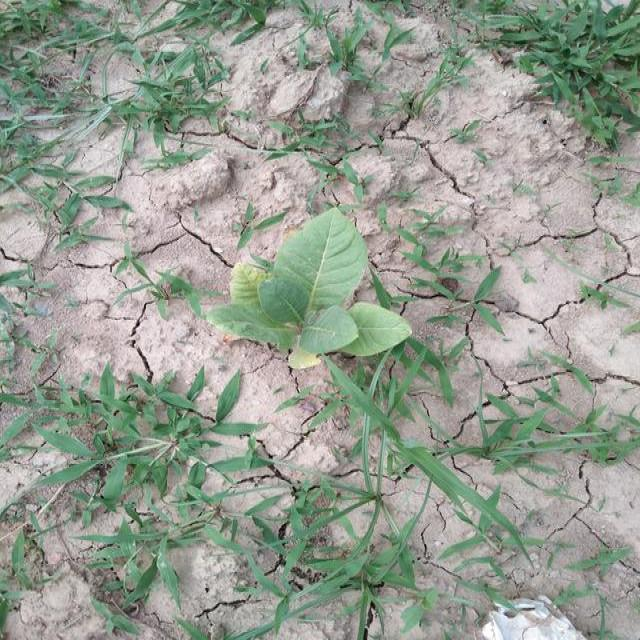crop: (209, 200, 414, 374)
